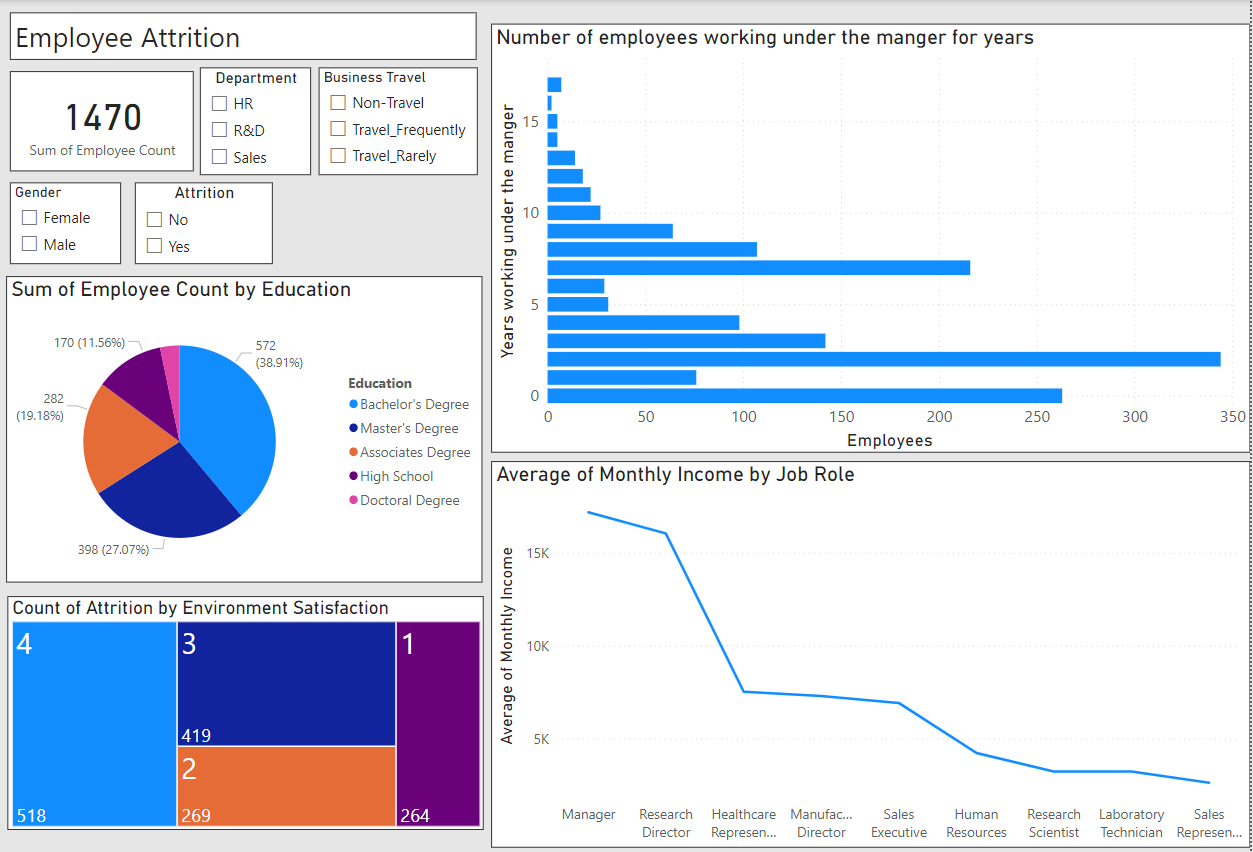

Layout of this report page (visuals, bound fields, positions):
{"tool":"powerbi","page":{"name":"Employee","canvas":[1460,1000],"ordinal":0},"visuals":[{"type":"lineChart","fields":{"Y":["Avg(Data.Monthly Income)"],"Category":["Data.Job Role"]},"box":[573.7,538.7,886.1,451.1],"z":0},{"type":"slicer","title":"Attrition","fields":{"Values":["Data.Attrition"]},"box":[157.7,213.1,160.6,94.9],"z":1000},{"type":"card","fields":{"Values":["Sum(Data.Employee Count)"]},"box":[11.7,83.2,214.6,116.8],"z":2000},{"type":"treemap","fields":{"Group":["Data.Environment Satisfaction"],"Values":["CountNonNull(Data.Attrition)"]},"box":[8.8,696.4,556.2,273],"z":3000},{"type":"pieChart","fields":{"Category":["Data.Education"],"Y":["Sum(Data.Employee Count)"]},"box":[7.3,322.6,556.2,357.7],"z":4000},{"type":"slicer","title":"Department","fields":{"Values":["Data.Department"]},"box":[233.6,78.8,129.9,125.5],"z":5000},{"type":"slicer","title":"Business Travel","fields":{"Values":["Data.Business Travel"]},"box":[372.3,78.8,185.4,125.5],"z":6000},{"type":"slicer","title":"Gender","fields":{"Values":["Data.Gender"]},"box":[11.7,213.1,129.9,94.9],"z":7000},{"type":"textbox","box":[11.7,14.6,544.5,55.5],"z":8000},{"type":"clusteredBarChart","title":"Number of employees working under the manger for years","fields":{"Category":["Data.Years With Curr Manager"],"Y":["Sum(Data.Employee Count)"]},"box":[573.7,27.7,886.1,500.7],"z":9000}]}

Visuals, with their boxes in screenshot pixels (x1, y1, x2, y2), scaled from the page's 1460x1000 canvas onto the 1253x852 screenshot:
lineChart - Avg(Data.Monthly Income) x Data.Job Role: 492 459 1252 843
"Attrition" slicer: 135 182 273 262
card - Sum(Data.Employee Count): 10 71 194 170
treemap - Data.Environment Satisfaction x CountNonNull(Data.Attrition): 8 593 485 826
pieChart - Data.Education x Sum(Data.Employee Count): 6 275 484 580
"Department" slicer: 200 67 312 174
"Business Travel" slicer: 320 67 479 174
"Gender" slicer: 10 182 122 262
textbox: 10 12 477 60
"Number of employees working under the manger for years" clusteredBarChart: 492 24 1252 450
